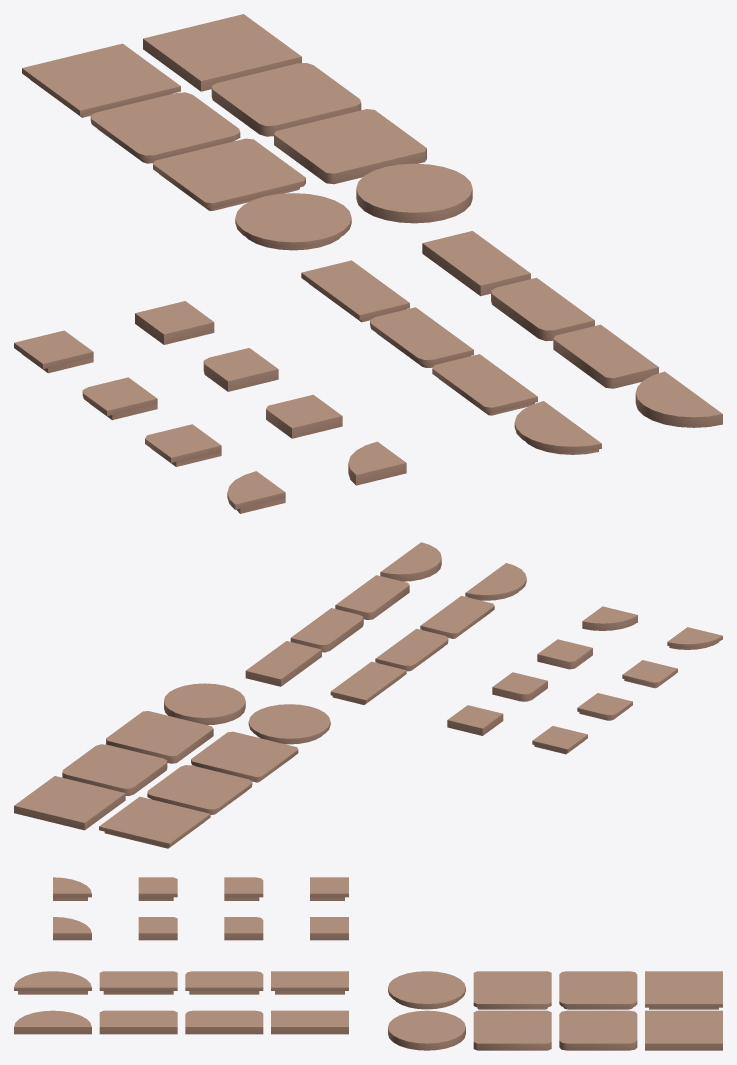
Rendered from studio-surfaces.glb.
3 renders of one model, top to bottom at view 1: azimuth 30°, elevation 25°; view 2: azimuth 150°, elevation 25°; view 3: azimuth 270°, elevation 25°, orthographic. The views are drawn at different scales.
Visible parts, largest first — view 1: surface, surface-square, surface-rounded, surface-edge, surface-square-edge, surface-rounded-edge (%thumbnail), surface-round, surface-round-edge, half-surface, half-surface-square, half-surface-rounded, half-surface-edge (+12 smaller); view 2: surface-square, surface, surface-rounded, surface-square-edge, surface-edge, surface-rounded-edge (%thumbnail), surface-round, surface-round-edge, half-surface-square, half-surface, half-surface-rounded, half-surface-square-edge (+12 smaller); view 3: surface, surface-square, surface-rounded, surface-edge, surface-rounded-edge (%thumbnail), surface-square-edge, surface-round, surface-round-edge, half-surface, half-surface-square, half-surface-rounded, half-surface-edge (+12 smaller).
Part boxes in pixels (box(x1,y1,x2,y2)): surface: box(274, 109, 426, 184); surface-square: box(143, 14, 301, 91); surface-rounded: box(211, 63, 361, 136); surface-edge: box(153, 138, 305, 210); surface-square-edge: box(22, 43, 180, 117); surface-rounded-edge (%thumbnail): box(90, 92, 240, 163); surface-round: box(356, 163, 472, 223); surface-round-edge: box(235, 193, 351, 250); half-surface: box(553, 324, 658, 388); half-surface-square: box(422, 231, 530, 296); half-surface-rounded: box(491, 277, 594, 340); half-surface-edge: box(432, 354, 537, 415); surface-square: box(14, 776, 125, 830); surface: box(106, 711, 213, 763); surface-rounded: box(62, 744, 167, 795); surface-square-edge: box(99, 796, 210, 848); surface-edge: box(191, 731, 298, 782); surface-rounded-edge (%thumbnail): box(147, 765, 252, 814); surface-round: box(164, 683, 245, 725); surface-round-edge: box(248, 704, 330, 744); half-surface-square: box(245, 641, 321, 686); half-surface: box(335, 575, 409, 619); half-surface-rounded: box(290, 608, 363, 652); half-surface-square-edge: box(330, 661, 406, 704); surface: box(473, 1010, 551, 1050); surface-square: box(645, 1010, 722, 1050); surface-rounded: box(559, 1010, 637, 1050); surface-edge: box(473, 971, 551, 1009); surface-rounded-edge (%thumbnail): box(559, 971, 637, 1009); surface-square-edge: box(645, 971, 722, 1009); surface-round: box(388, 1010, 465, 1050); surface-round-edge: box(388, 971, 465, 1009); half-surface: box(99, 1010, 177, 1034); half-surface-square: box(271, 1010, 348, 1034); half-surface-rounded: box(185, 1010, 263, 1034); half-surface-edge: box(99, 971, 177, 994).
Bounding box in the file's own units: 5.05 × 0.1 × 9.1.
